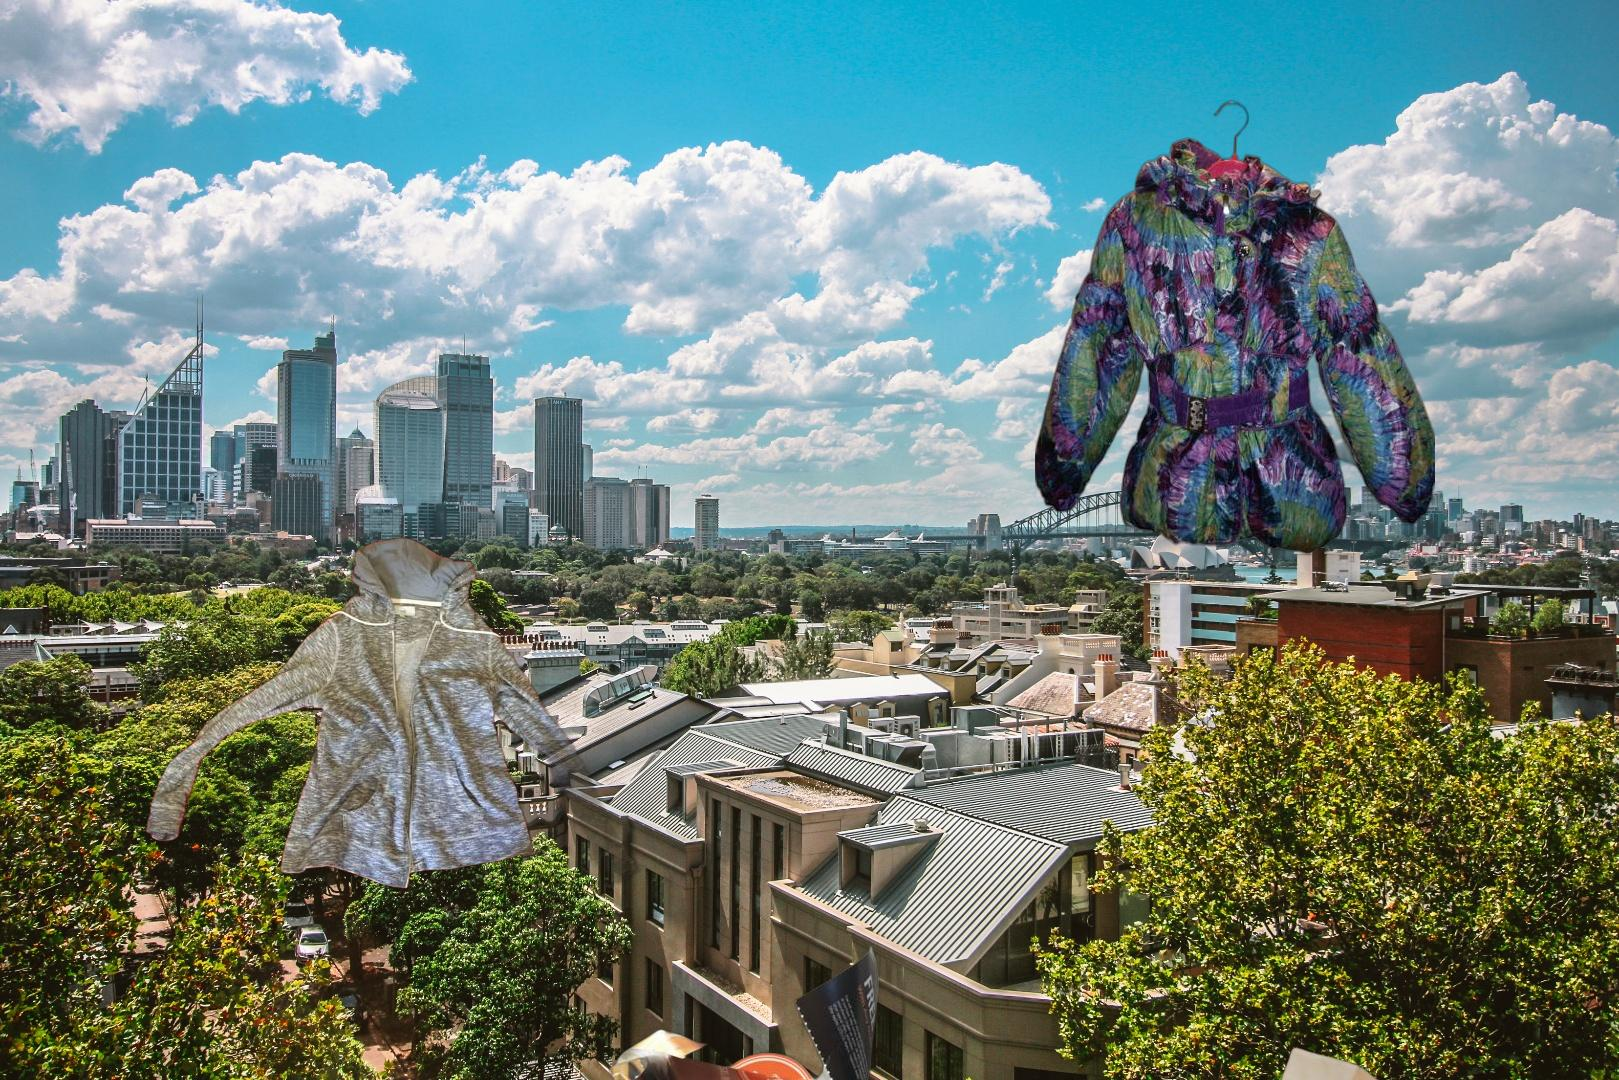clothes: (140, 535, 661, 915), (1035, 97, 1435, 559)
metal-cans: (1402, 442, 1619, 788)
paper: (605, 941, 883, 1080)
paper-bag: (1238, 1046, 1404, 1080)
